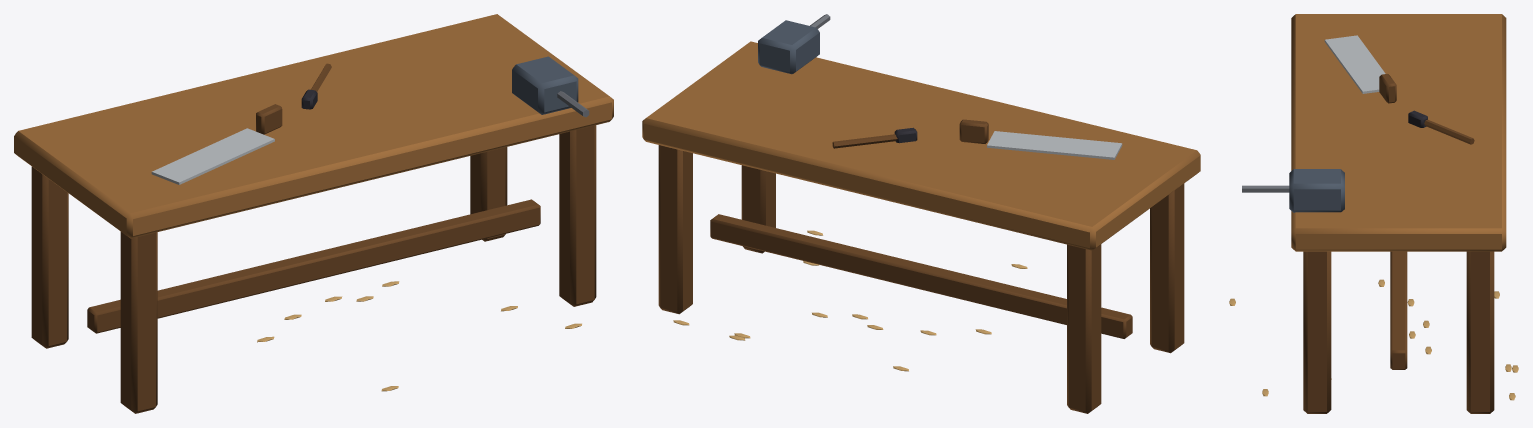
Rendered from workbench.glb.
3 views of the same model, side by side, from view 1: azimuth 30°, elevation 25°; view 2: azimuth 150°, elevation 25°; view 3: azimuth 270°, elevation 25° (orthographic). The views are drawn at different scales.
Parts seen in each view (by area): view 1: workbench; view 2: workbench; view 3: workbench.
Boxes of the visible parts, box(x1,y1,x2,y2) form: workbench: box(14, 14, 613, 413); workbench: box(642, 14, 1200, 413); workbench: box(1229, 14, 1518, 413).
Size of the model in its own units: 2.4 by 1.12 by 1.35.
